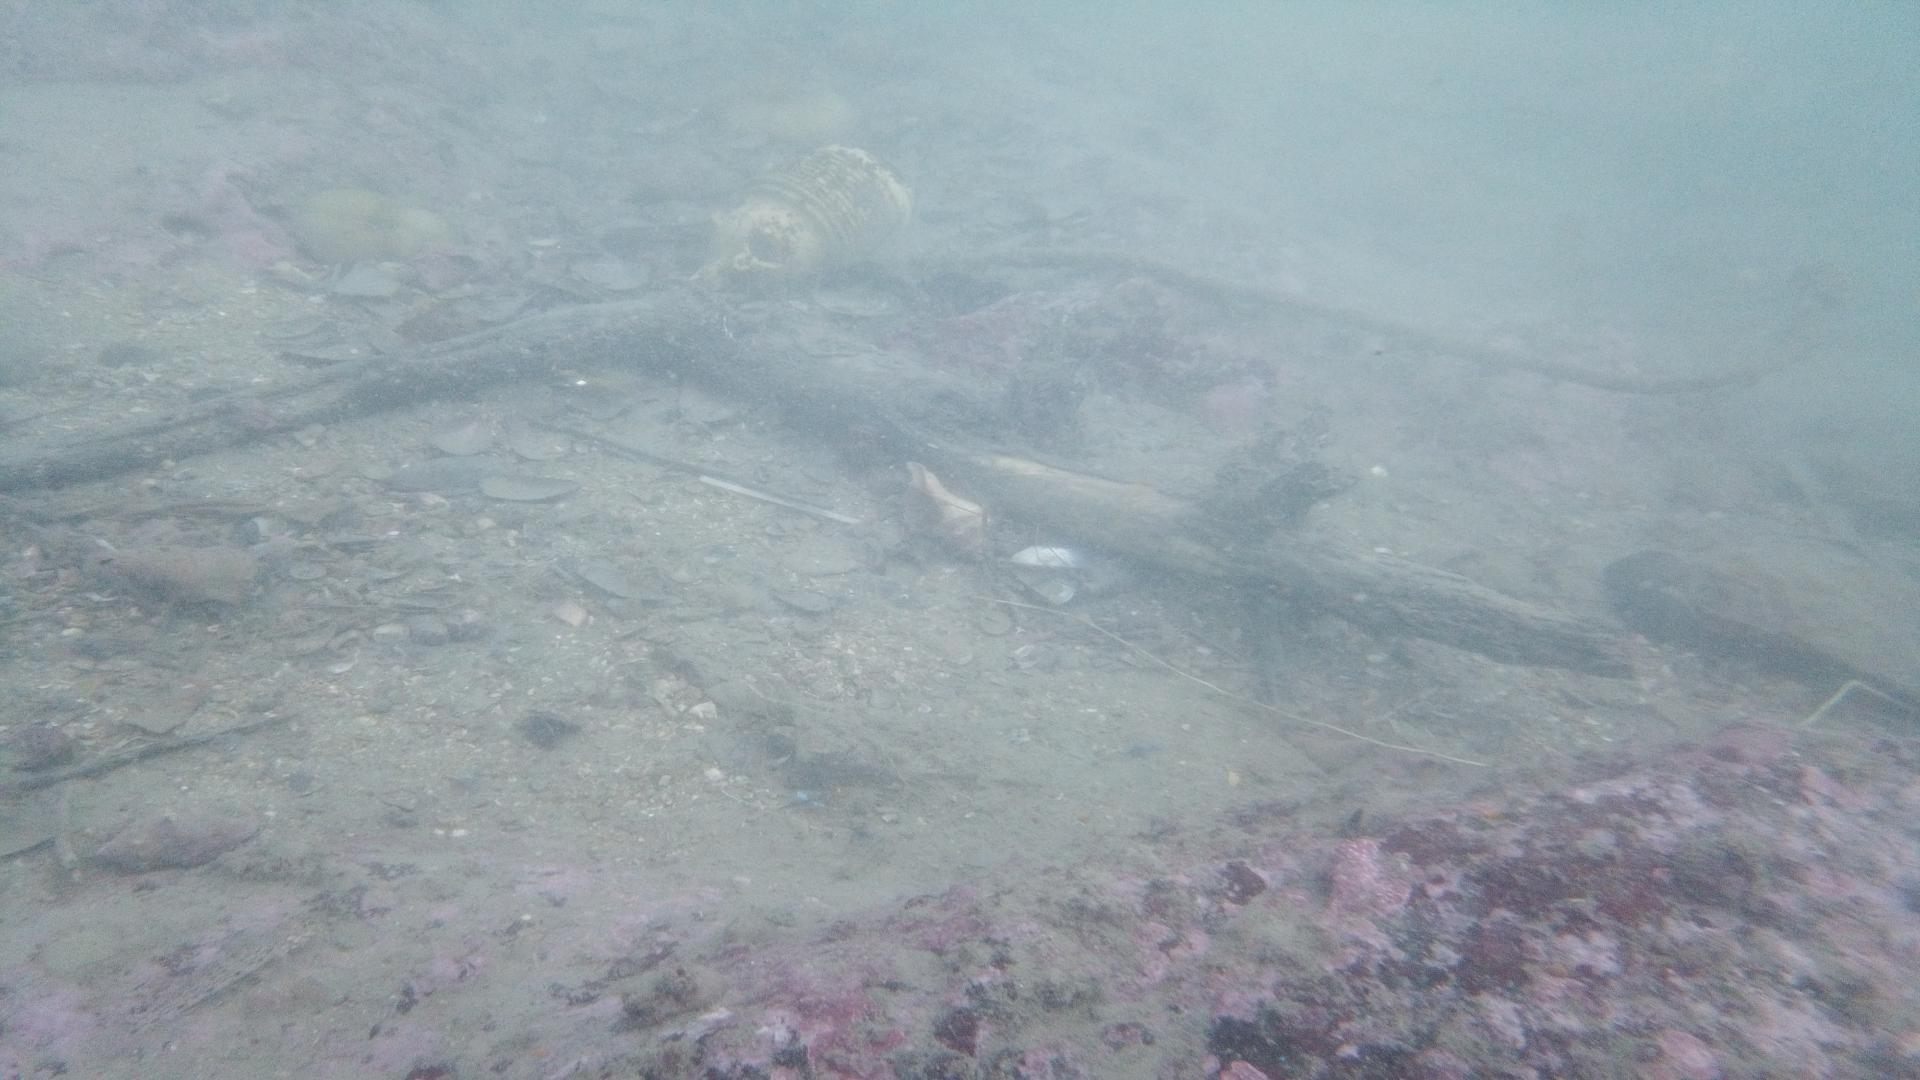rope: (980, 244, 1764, 397)
wood: (0, 287, 1663, 682)
